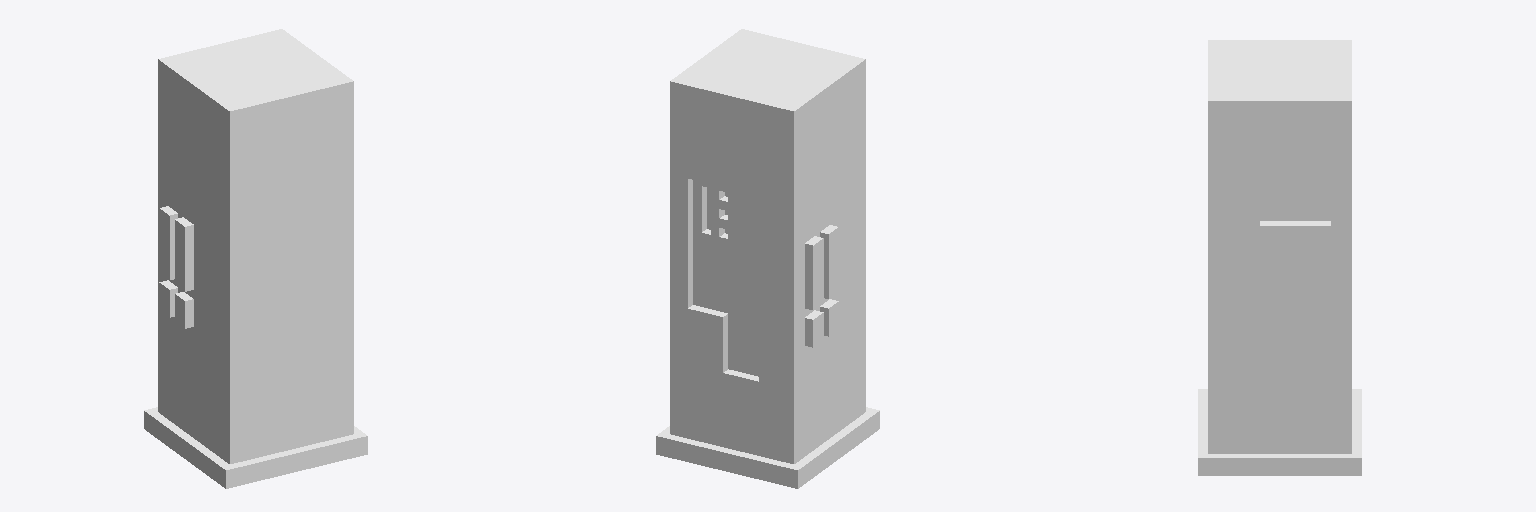
The model's file is glue_pillar_a.obj.
3 views of the same model, side by side, from view 1: azimuth 30°, elevation 25°; view 2: azimuth 150°, elevation 25°; view 3: azimuth 270°, elevation 25° (orthographic).
Visible parts, largest first — view 1: object 1; view 2: object 1; view 3: object 1.
Boxes of the visible parts, <box> form: object 1: <box>144,29,367,488</box>; object 1: <box>656,29,879,488</box>; object 1: <box>1198,40,1361,475</box>.
Bounding box in the file's own units: 1.6 × 4 × 1.6.